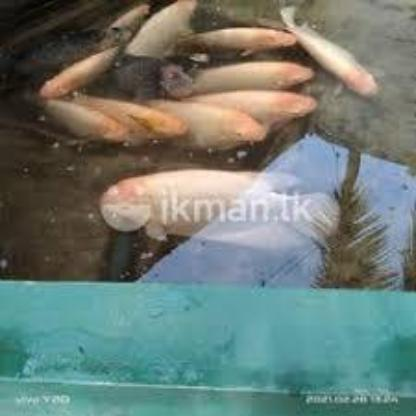gurame: (105, 166, 319, 248), (304, 3, 374, 94), (159, 103, 261, 157)
